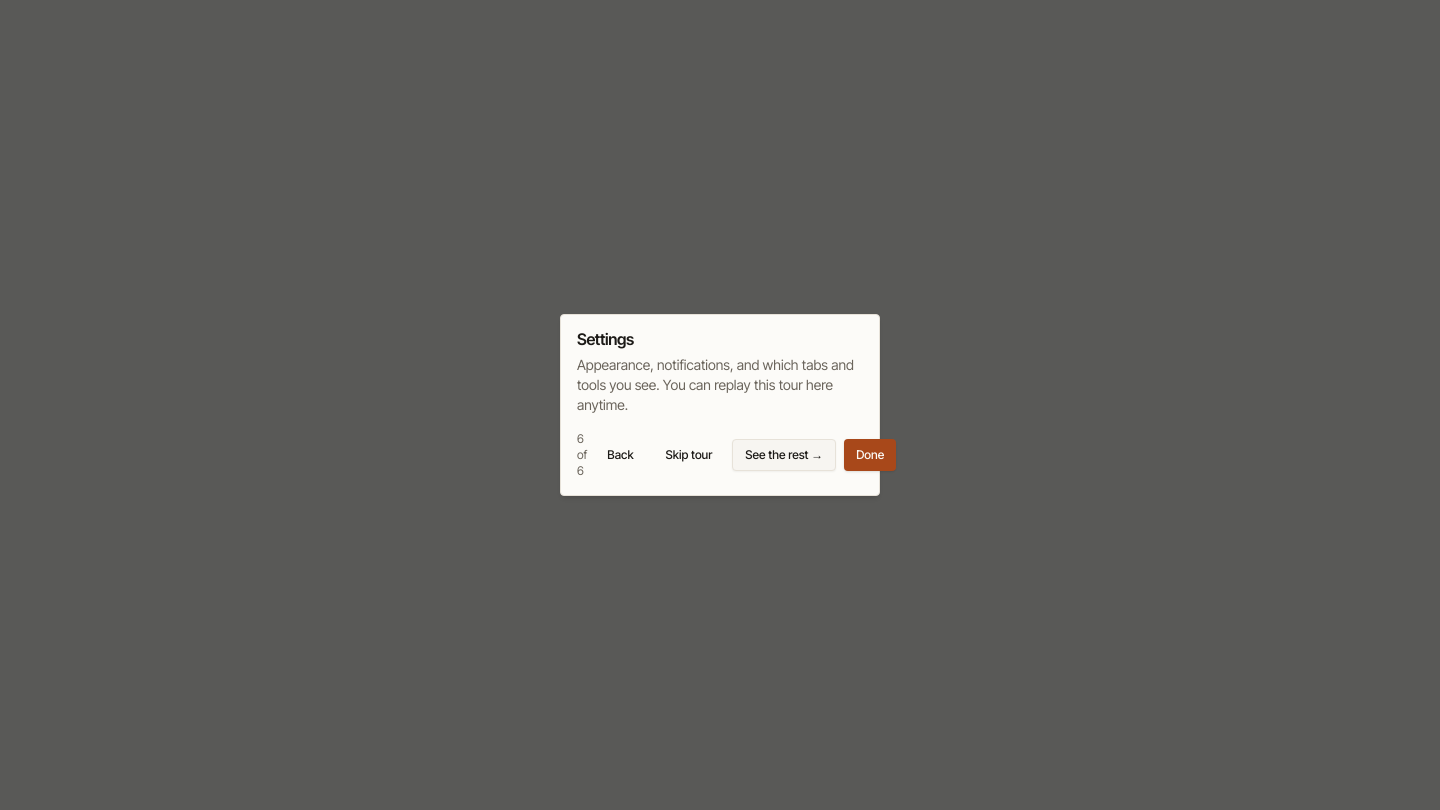
TourOverlay › See the rest enters mode:all and re-expands the denominator (6 of 7, never 7 of 6)
This screenshot has width=1440, height=810.
Click the button "See the rest →": [784, 455] box [732, 439, 836, 471]
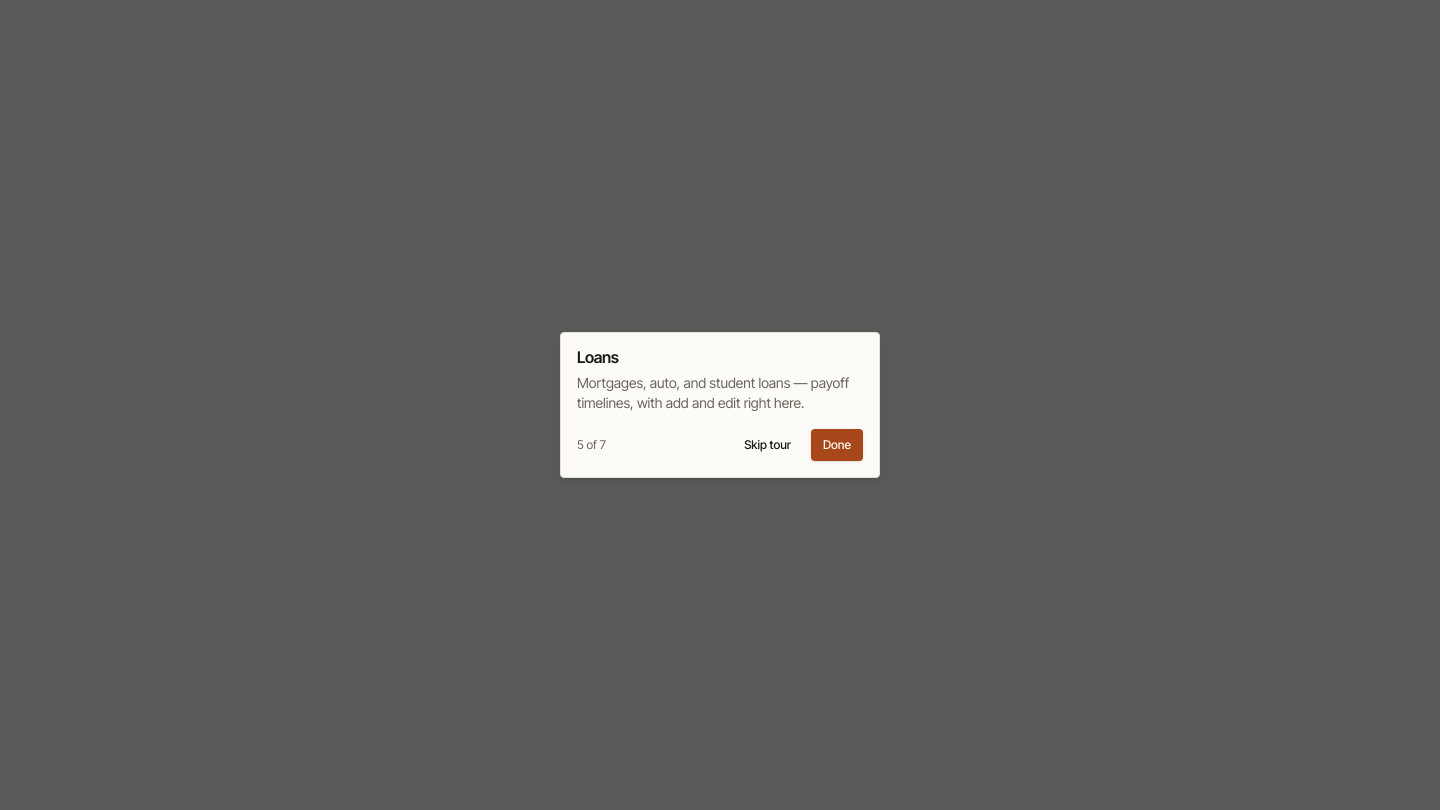
Result: the text "5 of 7" is shown at [577, 437, 606, 452]
Result: the text "of 6" is gone
